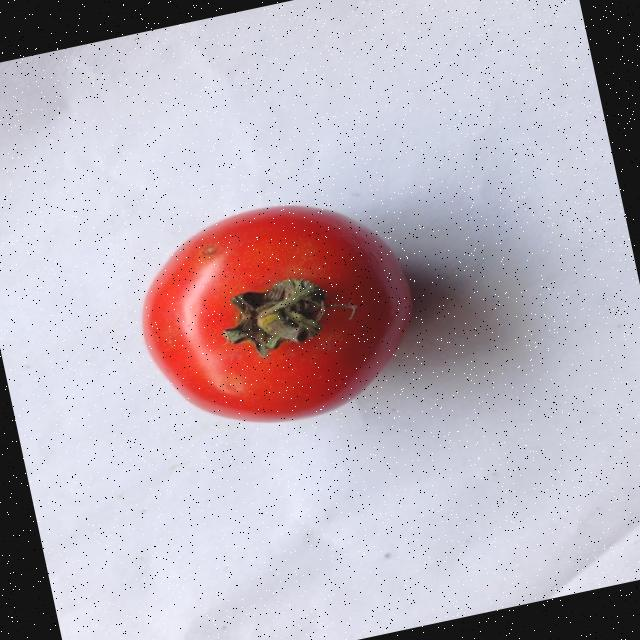Tomato: (112, 172, 438, 454)
